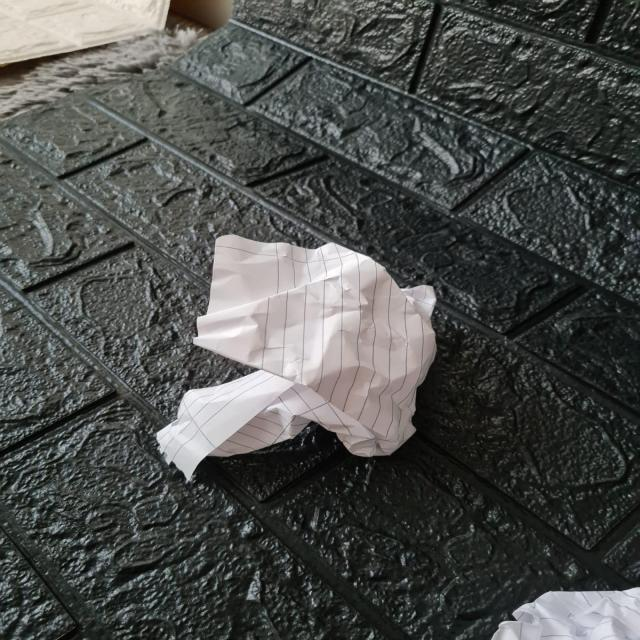trash: (192, 235, 440, 455)
